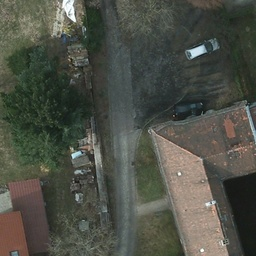car: (185, 36, 219, 62), (172, 101, 202, 120)
